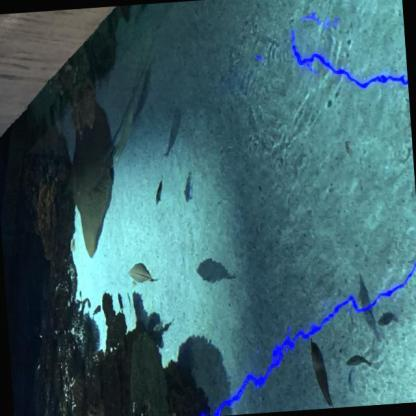fish: (307, 336, 335, 408), (127, 262, 156, 287), (346, 350, 372, 374), (152, 178, 165, 206), (115, 292, 124, 315), (92, 304, 102, 315)
stingray: (66, 98, 121, 258)
